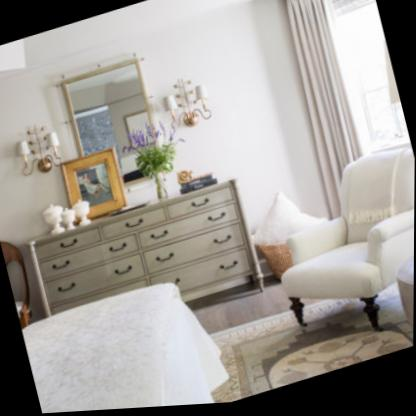Curtains: (285, 0, 365, 222)
Sideboard: (33, 181, 269, 318)
